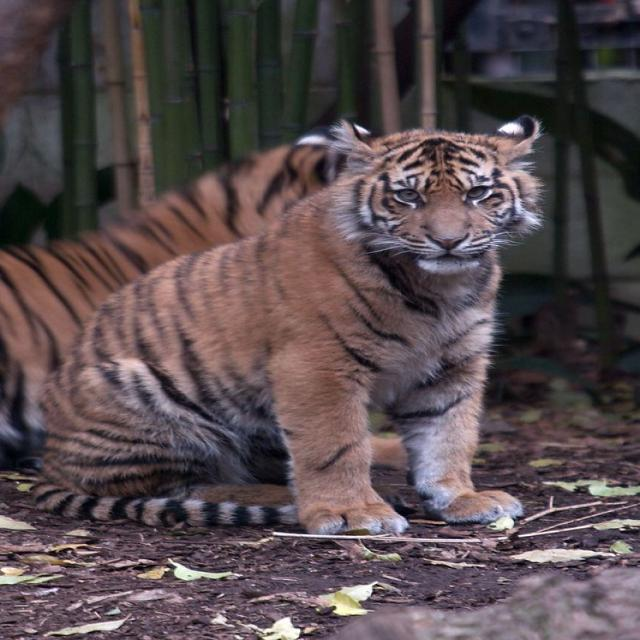Tiger: (14, 101, 576, 544)
